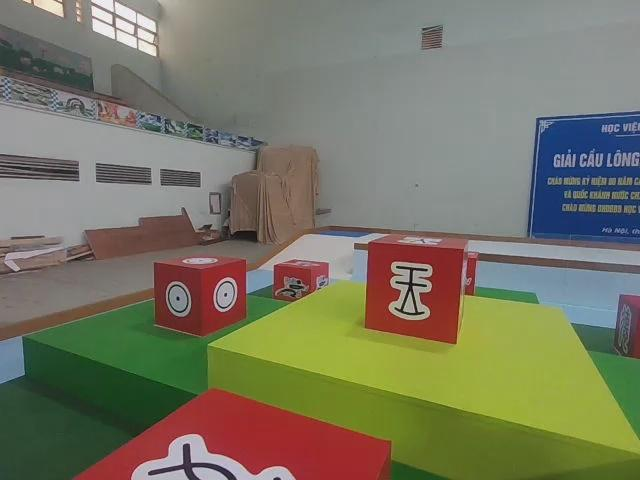R1: (270, 260, 330, 309)
R2 Fake: (611, 292, 640, 360)
R2 Real: (71, 382, 394, 480), (358, 233, 467, 348), (150, 253, 251, 339)
